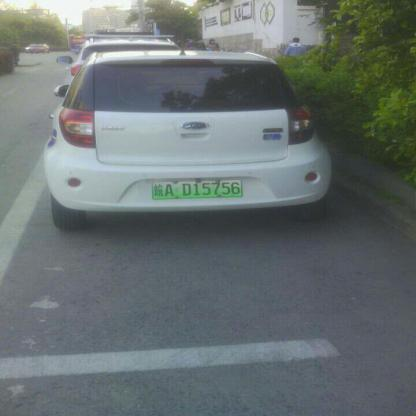lp: (152, 180, 242, 197)
